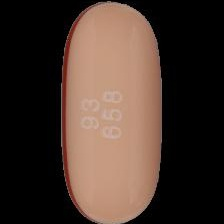55154-8281: (0, 0, 224, 224)
